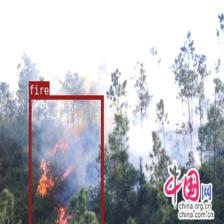fire: (28, 94, 103, 224)
